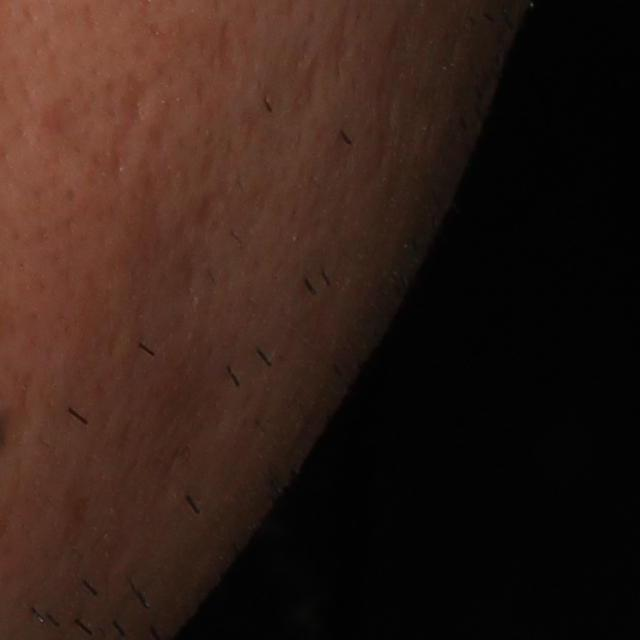atrophic_scar: (218, 23, 240, 87)
